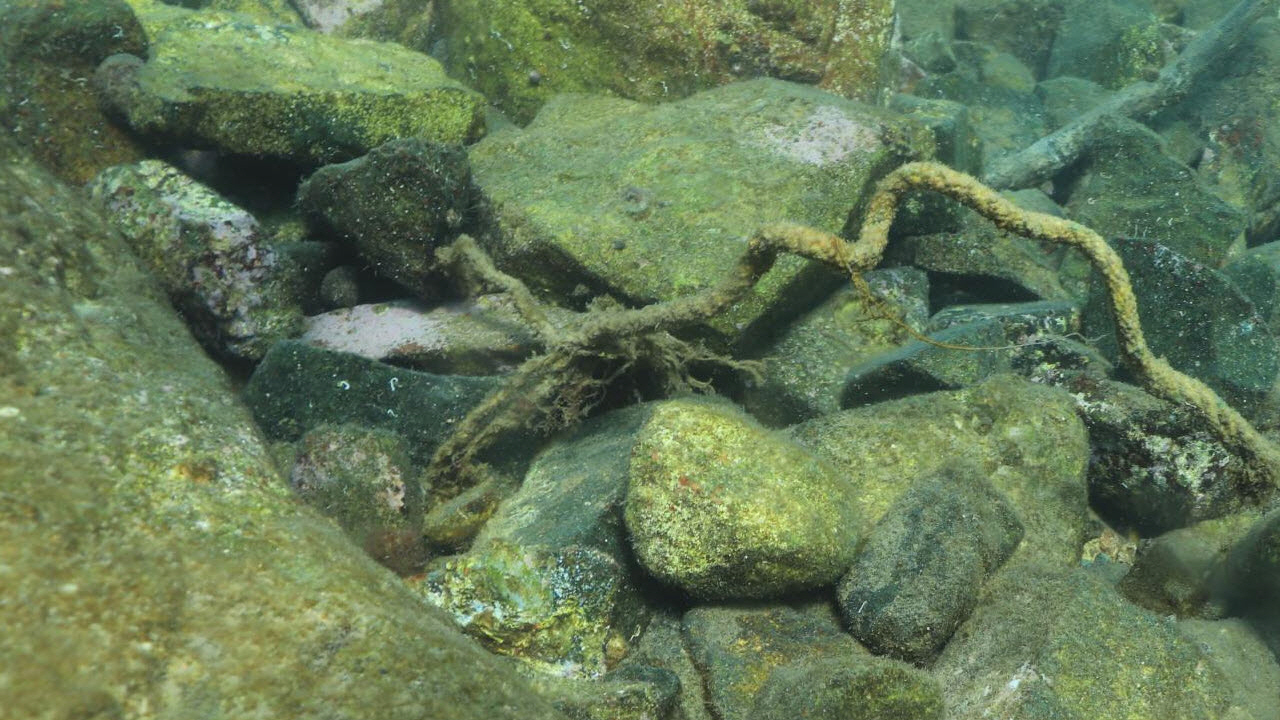bundle of ropes: (432, 153, 1278, 479)
